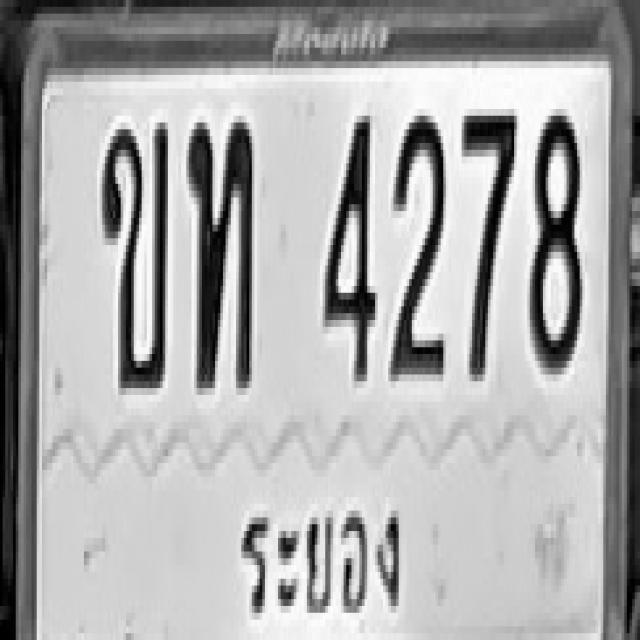11KhorKhai: (100, 116, 168, 388)
2: (390, 105, 444, 378)
32ThorThaHan: (188, 116, 253, 388)
4: (323, 105, 375, 378)
7: (462, 105, 516, 378)
8: (529, 106, 581, 371)
Rayong: (224, 474, 410, 637)
